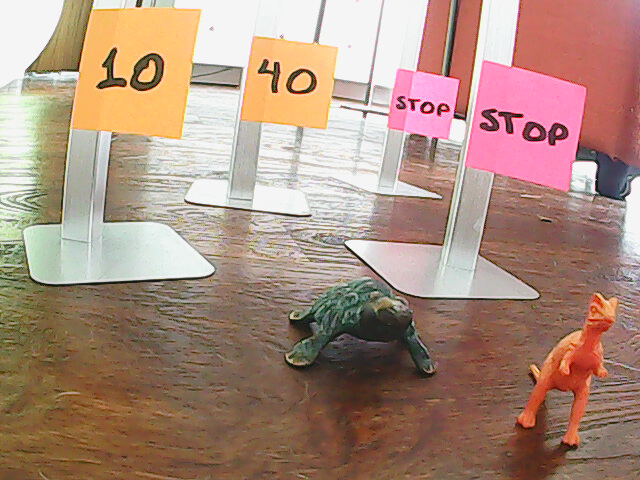10: (87, 8, 195, 138)
40: (239, 40, 339, 125)
dinosaur: (280, 268, 432, 391), (517, 285, 623, 454)
stop: (474, 61, 582, 194), (389, 67, 456, 138)
